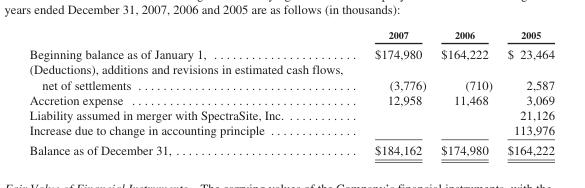table: (28, 28, 553, 157)
table column: (28, 28, 358, 157), (358, 28, 432, 157), (432, 28, 499, 157), (499, 28, 553, 157)
table column header: (28, 28, 553, 43)
table row: (28, 61, 553, 91), (28, 43, 553, 61), (28, 139, 553, 157), (28, 122, 553, 139), (28, 91, 553, 107), (28, 28, 553, 43), (28, 107, 553, 122)
